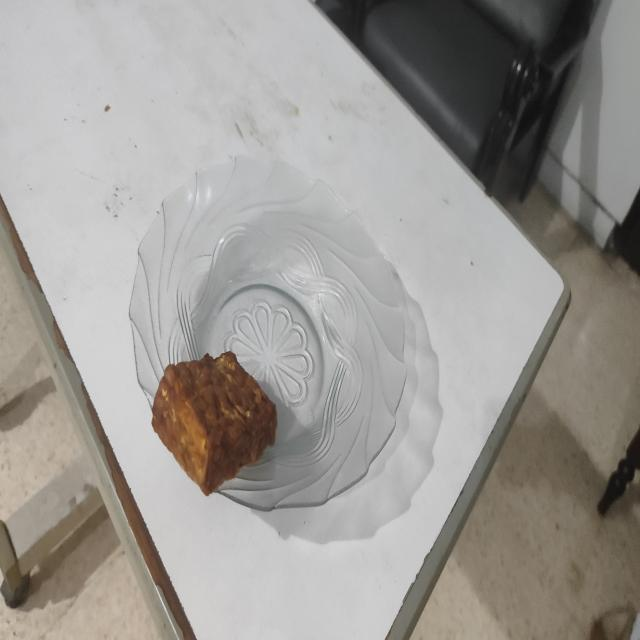tempe_goreng: (152, 352, 277, 496)
